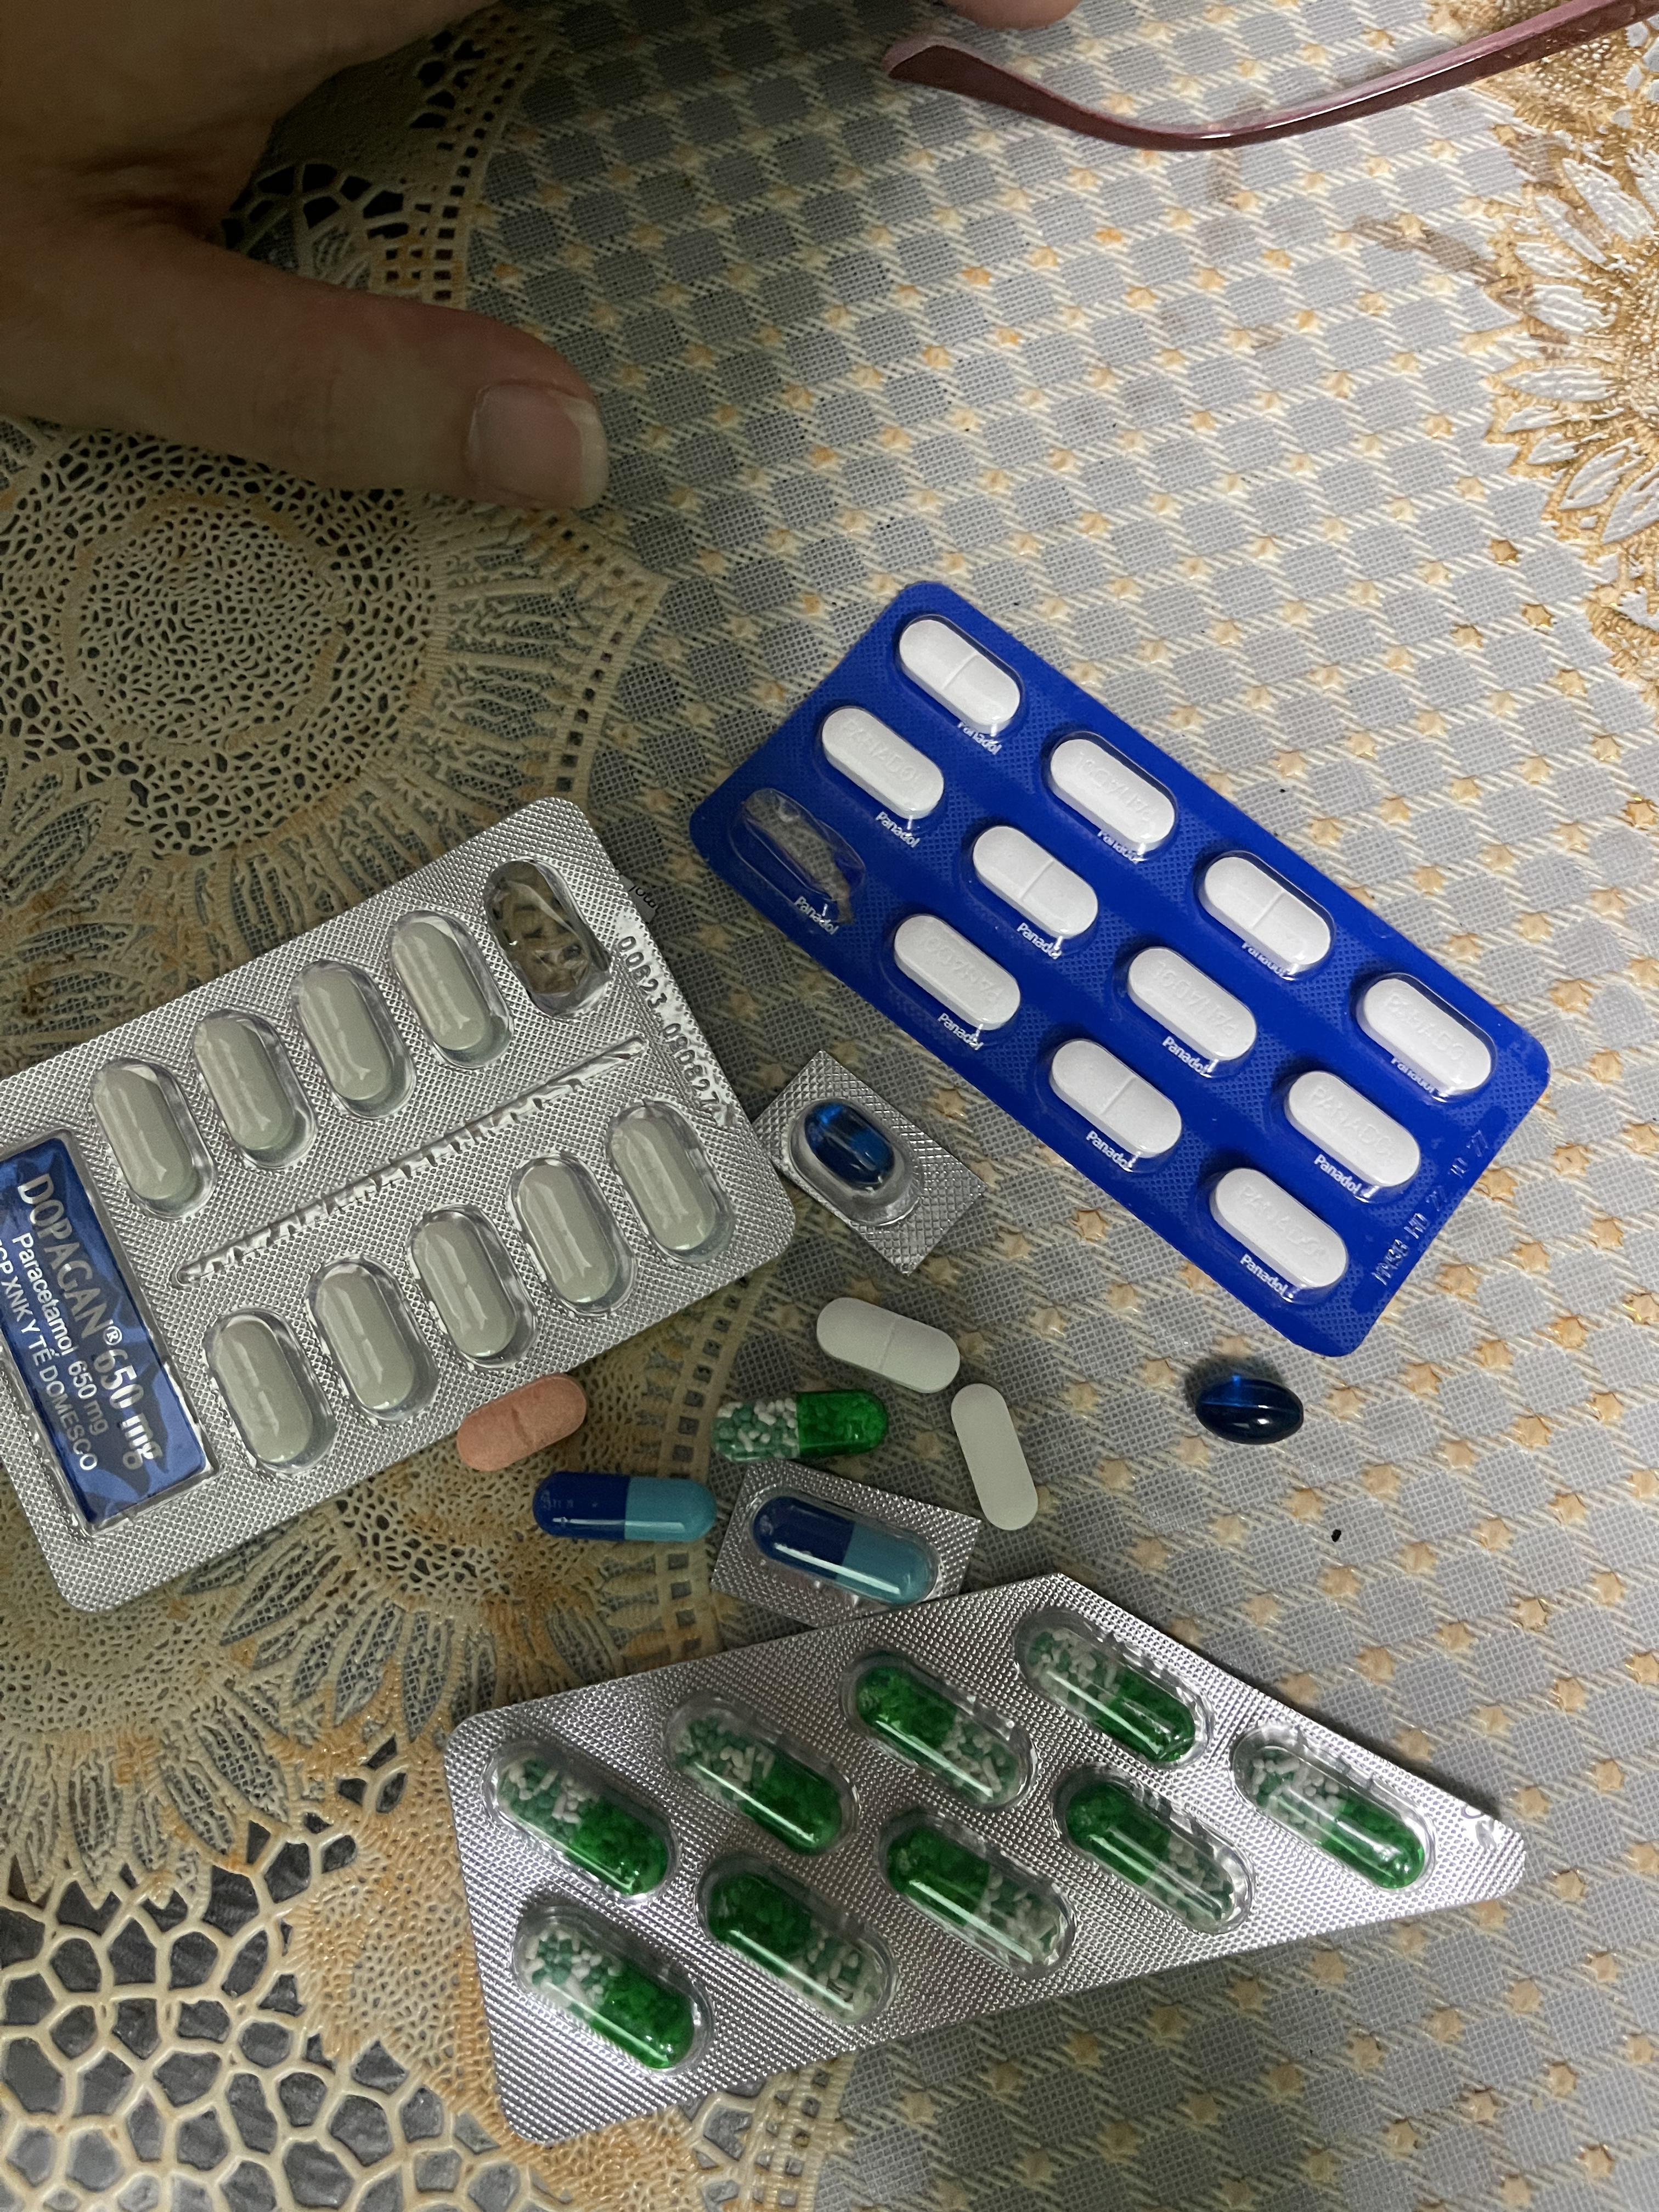Lincomyxin_500mg: (1194, 1374, 1308, 1446), (808, 1103, 896, 1185)
Loratadine_10mg: (453, 1375, 587, 1472)
Paracetamol_350mg: (1356, 975, 1498, 1099), (1207, 1169, 1346, 1292), (1283, 1071, 1420, 1191), (1046, 736, 1176, 859), (1198, 852, 1329, 972), (893, 913, 1020, 1033), (1123, 945, 1251, 1064), (1050, 1039, 1173, 1161), (972, 822, 1093, 940), (813, 1296, 961, 1393), (899, 617, 1021, 733), (820, 707, 942, 822)
Paracetamol_500mg: (309, 1257, 441, 1422), (205, 1307, 337, 1470), (410, 1207, 536, 1368), (193, 1008, 319, 1169), (607, 1101, 732, 1261), (92, 1057, 216, 1216), (387, 914, 513, 1070), (510, 1153, 632, 1310), (291, 961, 411, 1118), (949, 1382, 1038, 1530)
Paracetamol_650mg: (693, 1850, 893, 2024), (511, 1897, 702, 2072), (881, 1806, 1074, 1976), (1231, 1725, 1428, 1891), (489, 1734, 677, 1897), (665, 1692, 849, 1851), (1064, 1769, 1243, 1929), (845, 1652, 1029, 1808), (1019, 1608, 1188, 1767), (709, 1390, 893, 1466)
pill: (753, 1494, 940, 1606), (537, 1474, 718, 1544)
